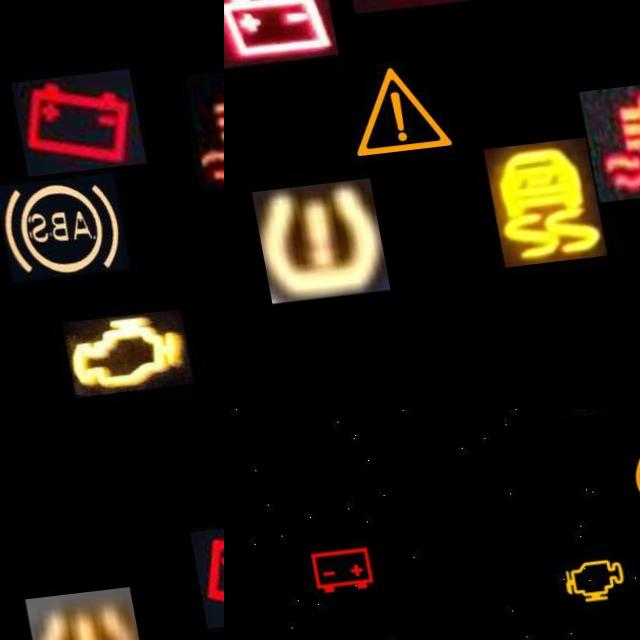Central Warning lamp: (317, 51, 452, 180)
Engine cooling system: (566, 90, 640, 212), (170, 72, 224, 197)
